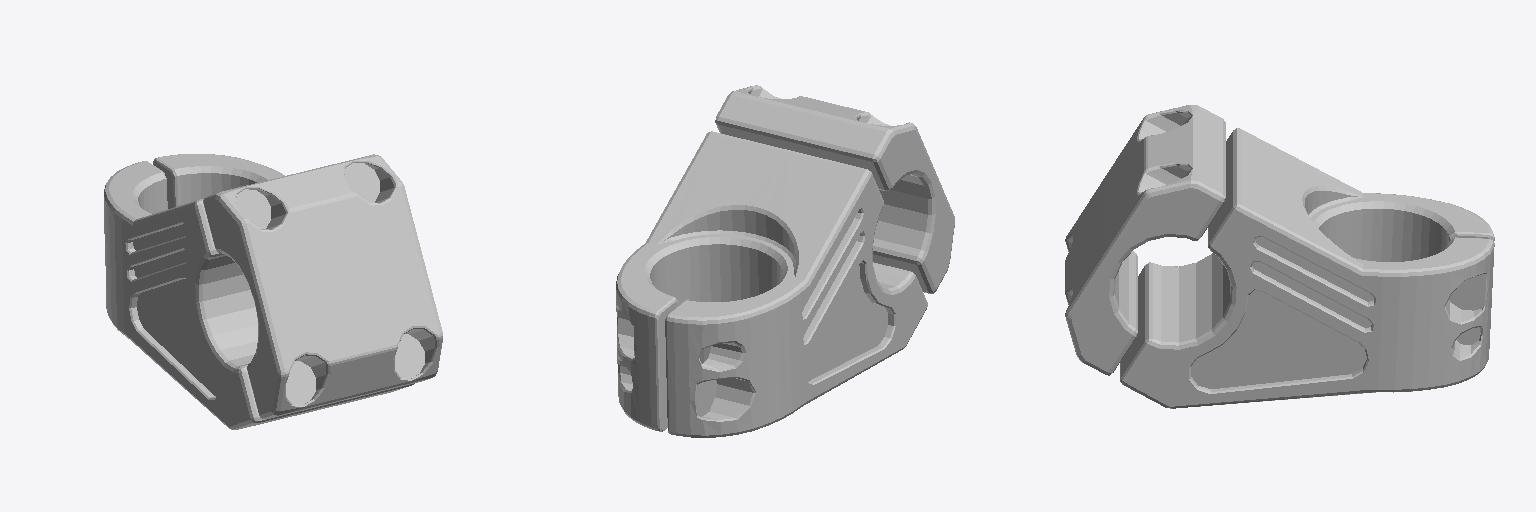
The model's file is MTB_Stem-sharedassets2MTB.assets-17022.obj.
3 renders of one model, left to right at view 1: azimuth 30°, elevation 25°; view 2: azimuth 150°, elevation 25°; view 3: azimuth 270°, elevation 25°, orthographic.
Visible parts, largest first — view 1: MTB_Stem_0.001; view 2: MTB_Stem_0.001; view 3: MTB_Stem_0.001.
Part boxes in pixels (bbox=[...]): MTB_Stem_0.001: bbox=[104, 154, 442, 429]; MTB_Stem_0.001: bbox=[616, 85, 954, 437]; MTB_Stem_0.001: bbox=[1065, 105, 1494, 408].
Size of the model in its own units: 0.0359 by 0.0476 by 0.0811.